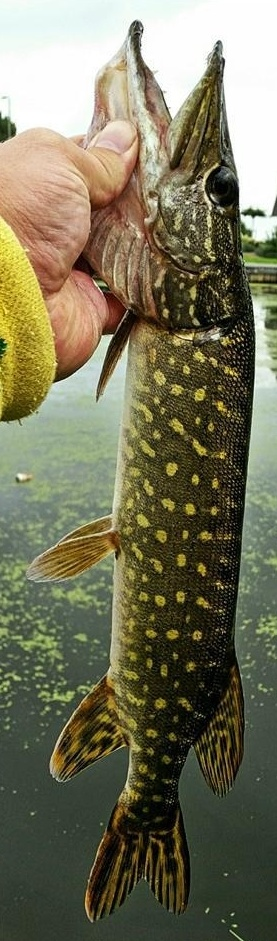Esox lucius: (20, 20, 257, 921)
